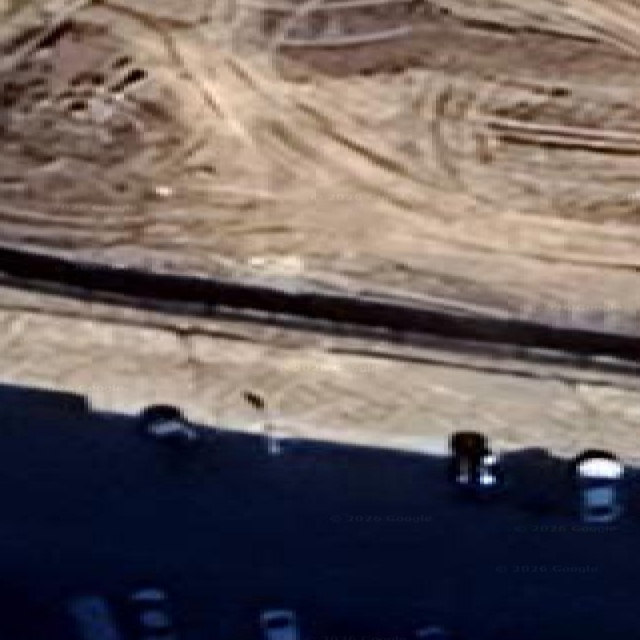car: (508, 447, 571, 515), (571, 449, 623, 523), (447, 432, 502, 495), (243, 390, 288, 455), (125, 587, 175, 639), (138, 404, 199, 444), (67, 596, 120, 639), (449, 431, 487, 484), (260, 608, 300, 639), (476, 452, 502, 491), (413, 624, 456, 639)
